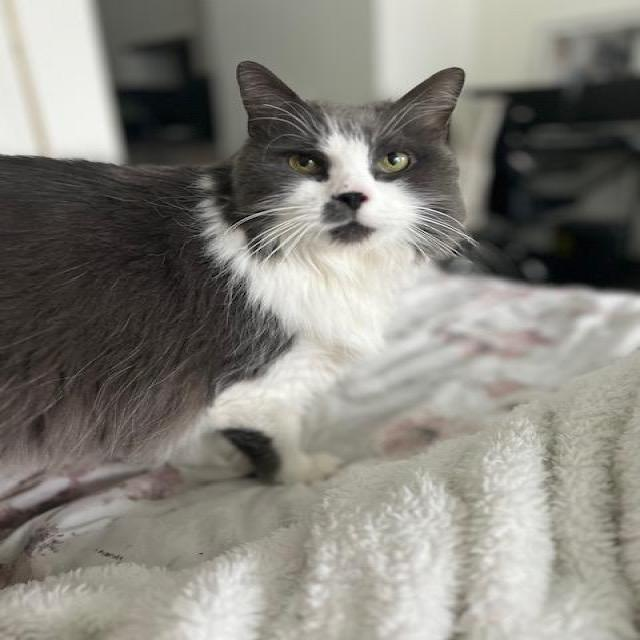maine_coon_cat: (191, 44, 499, 306)
